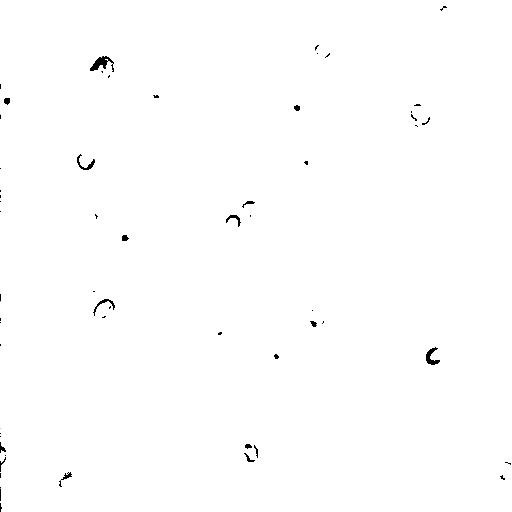micro-algae: (159, 0, 260, 87), (191, 164, 281, 257), (386, 259, 453, 328), (107, 1, 173, 47), (278, 0, 343, 31), (483, 239, 512, 308), (208, 321, 251, 364), (321, 307, 359, 345), (78, 52, 117, 89), (210, 47, 248, 84), (403, 43, 438, 78), (52, 467, 87, 498), (371, 302, 403, 334), (365, 27, 395, 59), (80, 202, 107, 232), (259, 341, 289, 366), (406, 101, 433, 128), (281, 93, 308, 116), (294, 145, 318, 170), (91, 297, 117, 320), (494, 423, 511, 458), (115, 231, 140, 253), (381, 225, 405, 247), (305, 307, 327, 330), (1, 89, 21, 114), (87, 272, 108, 295), (424, 345, 447, 365), (240, 440, 259, 463), (311, 39, 332, 59), (240, 199, 261, 219), (77, 152, 97, 173), (493, 465, 511, 487), (433, 5, 455, 21), (223, 215, 239, 231), (1, 444, 11, 469)
